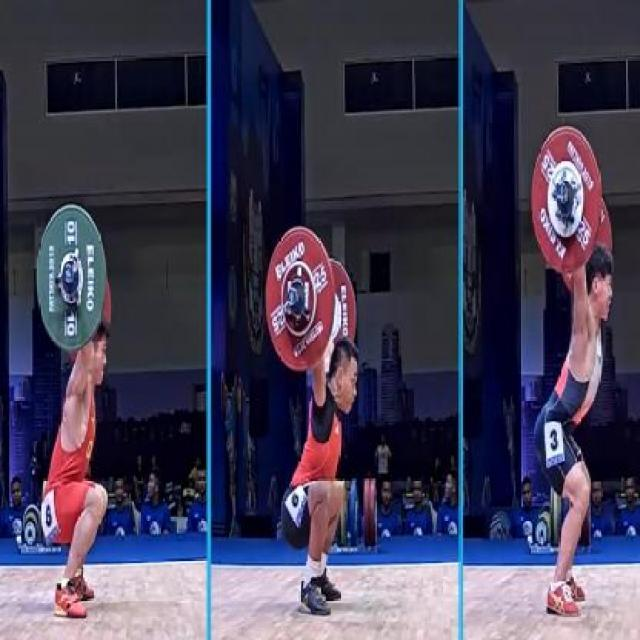Barbell: (61, 259, 76, 287), (556, 179, 570, 207), (284, 284, 298, 310)
